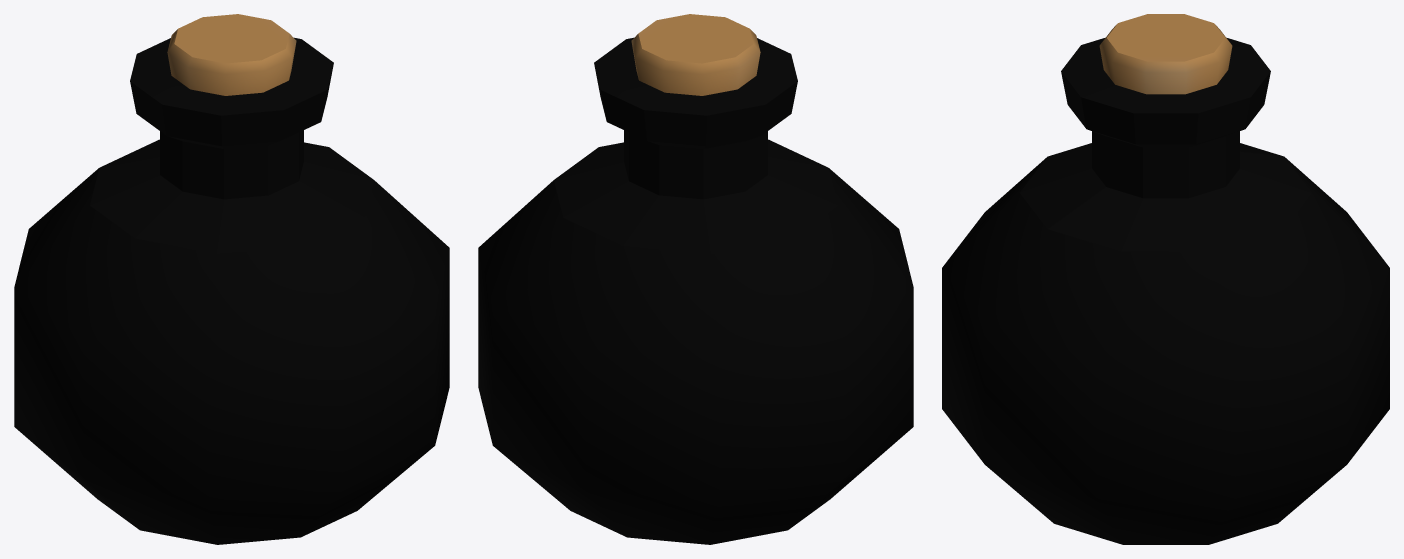
The model's file is potion red.FBX.
3 renders of one model, left to right at view 1: azimuth 30°, elevation 25°; view 2: azimuth 150°, elevation 25°; view 3: azimuth 270°, elevation 25°, orthographic.
Visible parts, largest first — view 1: Object001; view 2: Object001; view 3: Object001.
Part boxes in pixels (x1=…): Object001: x1=14, y1=14, x2=449, y2=544; Object001: x1=478, y1=14, x2=913, y2=544; Object001: x1=942, y1=14, x2=1389, y2=544.
Bounding box in the file's own units: 23.83 × 25.05 × 27.87.
